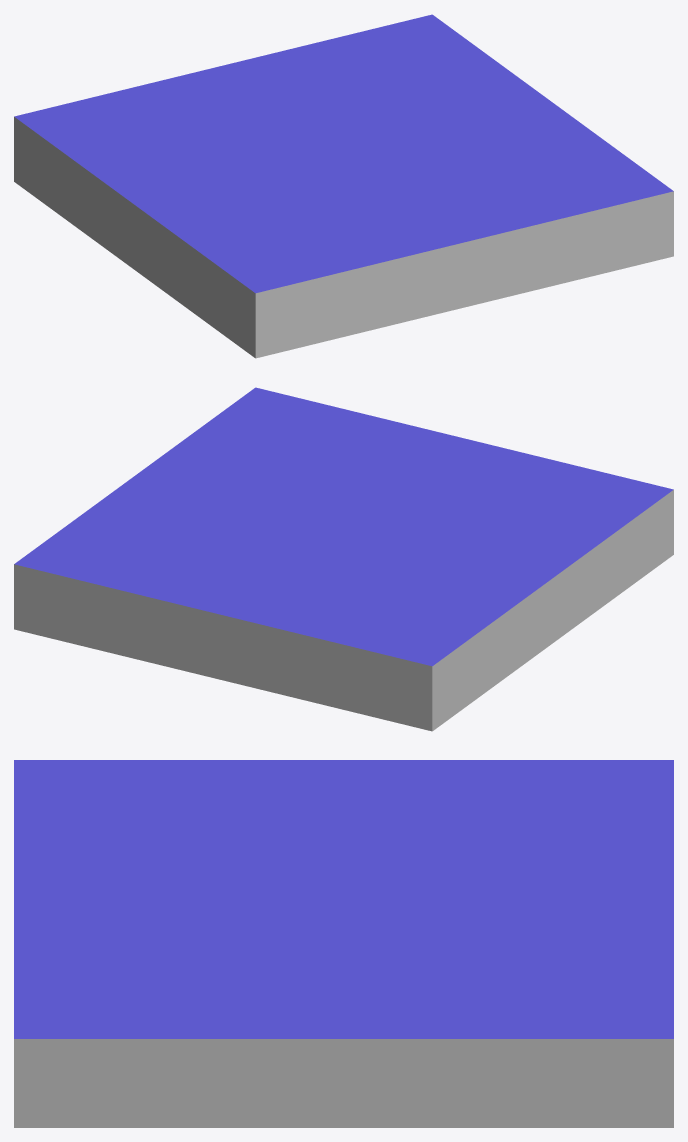
Rendered from Water.fbx.
3 views of the same model, one above another, from view 1: azimuth 30°, elevation 25°; view 2: azimuth 150°, elevation 25°; view 3: azimuth 270°, elevation 25° (orthographic). The views are drawn at different scales.
Visible parts, largest first — view 1: Water; view 2: Water; view 3: Water.
Part boxes in pixels (x1,y1,x2,y2): Water: (14,14,673,358); Water: (14,387,673,731); Water: (14,760,673,1127).
Bounding box in the file's own units: 200 × 200 × 29.76.
